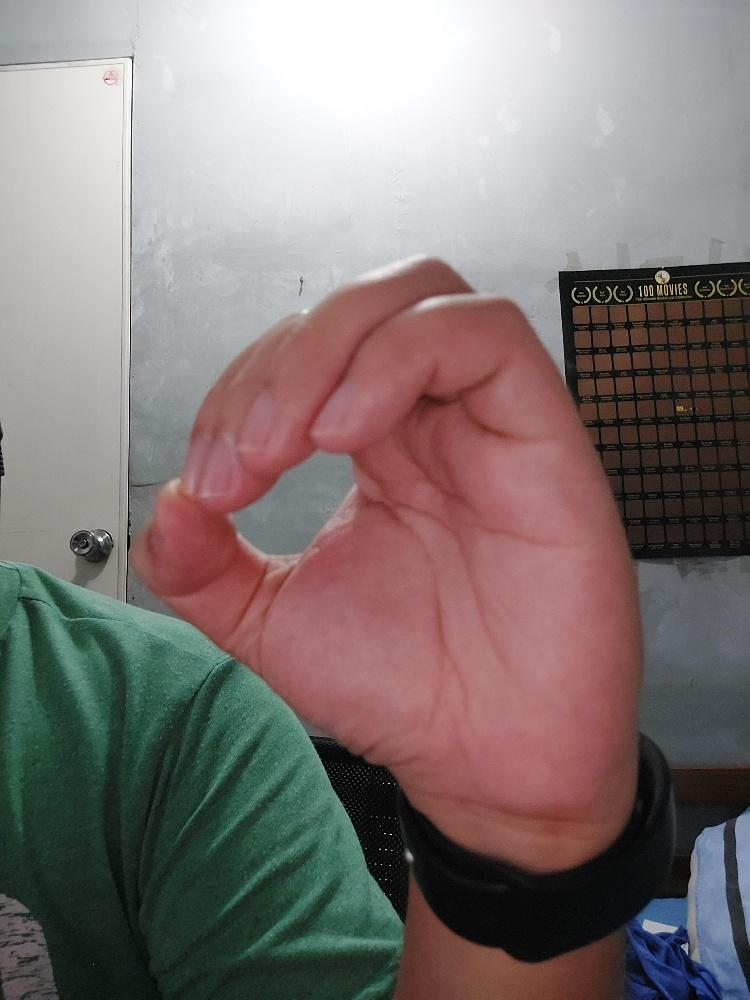o: (129, 250, 643, 808)
